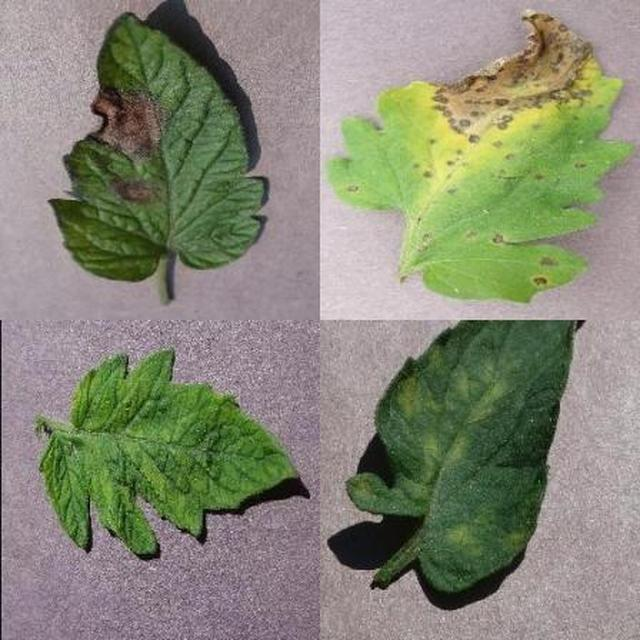Late Blight Leaf: (224, 207, 640, 640)
